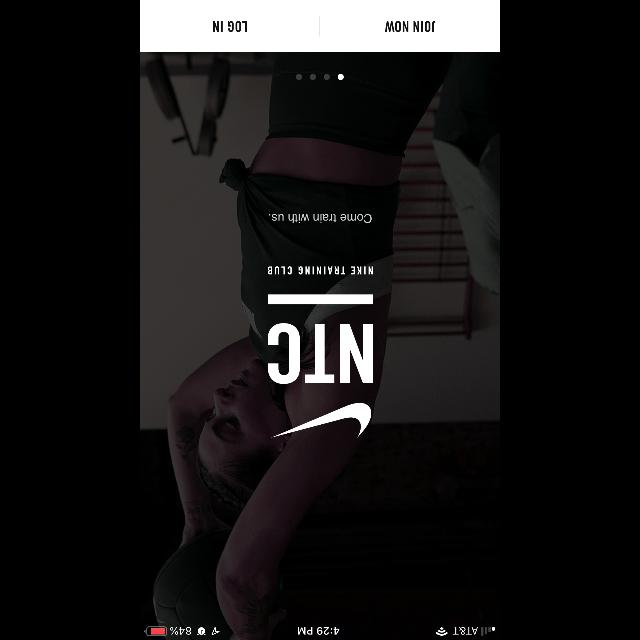backgroundimage: (140, 52, 500, 640)
image: (270, 402, 372, 438)
pageindicator: (296, 74, 344, 80)
text: (268, 322, 372, 384), (268, 214, 372, 223), (268, 266, 372, 274), (385, 20, 435, 32), (213, 20, 247, 32)
uppertaskbar: (140, 624, 500, 640)
